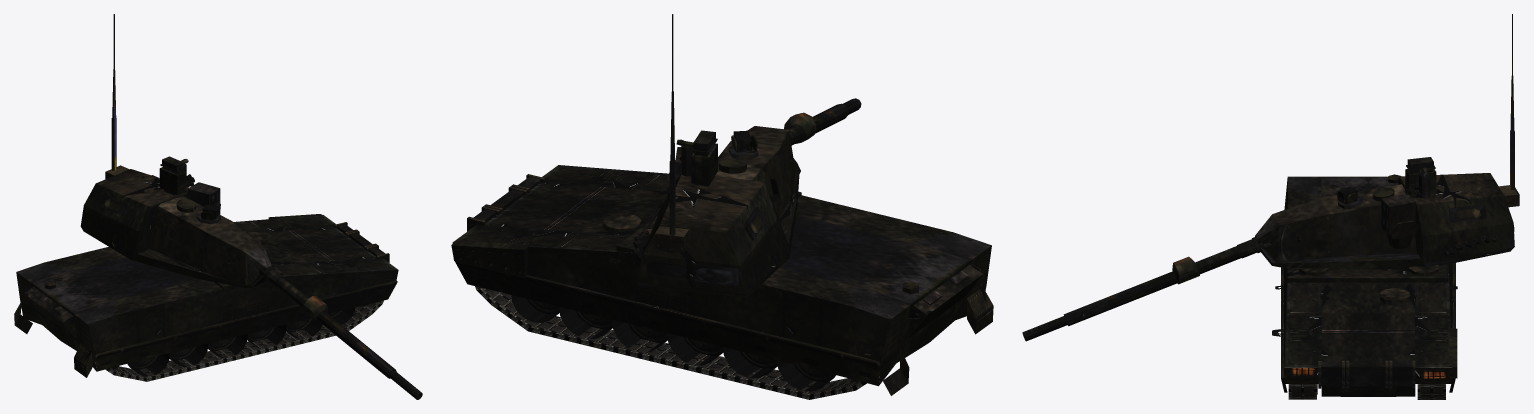
The model's file is dam_T-2.fbx.
3 renders of one model, left to right at view 1: azimuth 30°, elevation 25°; view 2: azimuth 150°, elevation 25°; view 3: azimuth 270°, elevation 25°, orthographic. The views are drawn at different scales.
Parts seen in each view (by area): view 1: polySurface125, polySurface127, polySurface156, polySurface3, polySurface136, polySurface137, polySurface138, polySurface139, polySurface140; view 2: polySurface125, polySurface127, polySurface157, polySurface3, polySurface128, polySurface129, polySurface130, polySurface132, polySurface131, polySurface134; view 3: polySurface125, polySurface127, polySurface3, polySurface156, polySurface157.
Boxes of the visible parts, left/top/right/bottom form: polySurface125: left=14, top=214, right=398, bottom=377; polySurface127: left=80, top=14, right=273, bottom=287; polySurface156: left=95, top=300, right=383, bottom=381; polySurface3: left=259, top=266, right=422, bottom=399; polySurface136: left=127, top=353, right=169, bottom=376; polySurface137: left=169, top=343, right=208, bottom=367; polySurface138: left=208, top=334, right=247, bottom=357; polySurface139: left=247, top=324, right=286, bottom=348; polySurface140: left=286, top=318, right=322, bottom=339; polySurface125: left=451, top=165, right=993, bottom=395; polySurface127: left=632, top=14, right=800, bottom=297; polySurface157: left=475, top=286, right=880, bottom=399; polySurface3: left=784, top=98, right=861, bottom=145; polySurface128: left=777, top=360, right=835, bottom=391; polySurface129: left=723, top=347, right=777, bottom=378; polySurface130: left=667, top=333, right=723, bottom=365; polySurface132: left=559, top=306, right=612, bottom=339; polySurface131: left=612, top=319, right=667, bottom=352; polySurface134: left=511, top=295, right=559, bottom=322; polySurface125: left=1272, top=174, right=1457, bottom=396; polySurface127: left=1255, top=14, right=1519, bottom=269; polySurface3: left=1022, top=237, right=1264, bottom=341; polySurface156: left=1288, top=384, right=1316, bottom=399; polySurface157: left=1417, top=384, right=1445, bottom=399.
Bounding box in the file's own units: 15.19 × 12.47 × 17.97.
